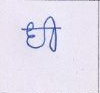i_matra: (45, 16, 59, 52)
